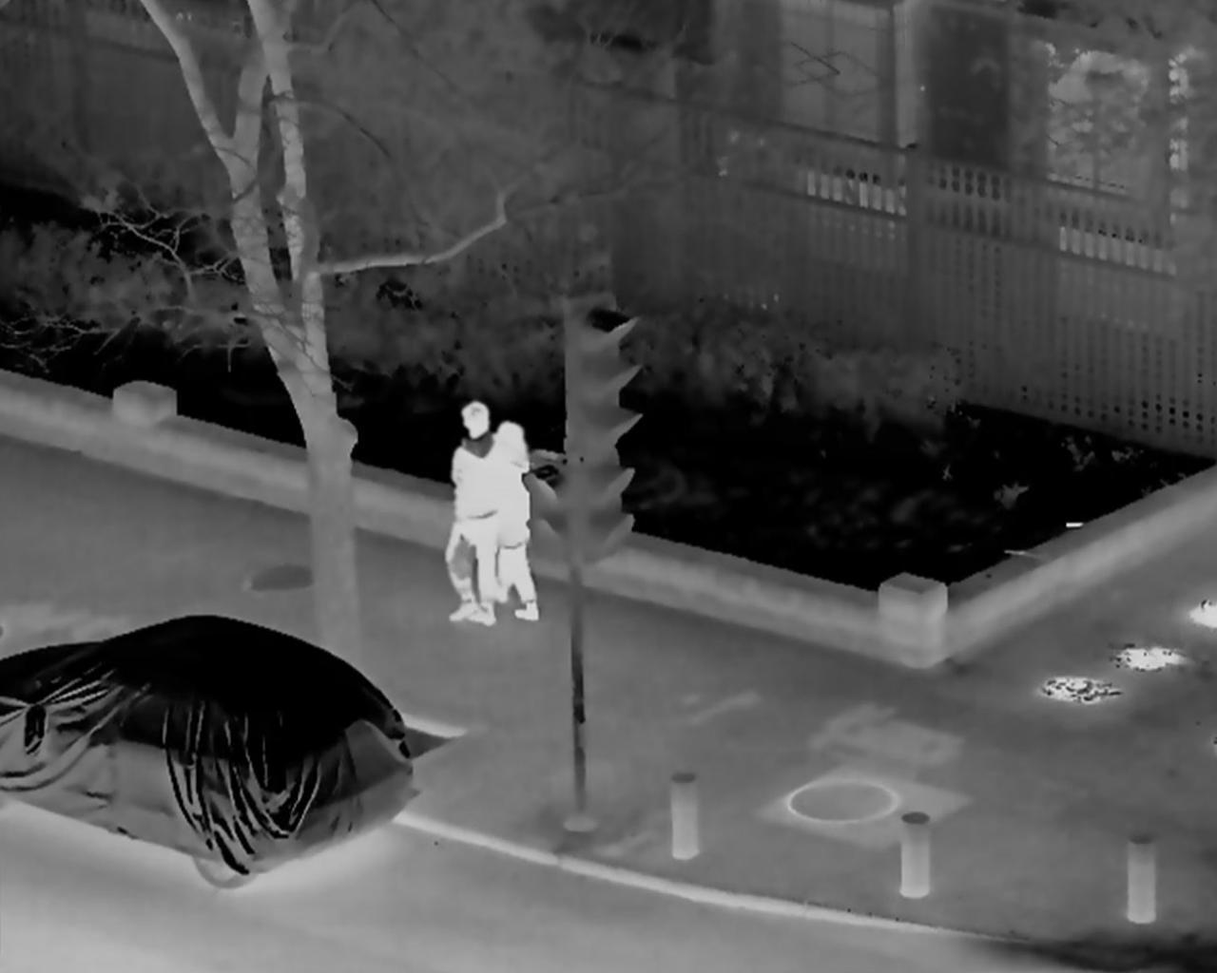person: (448, 404, 518, 629), (487, 415, 544, 627)
